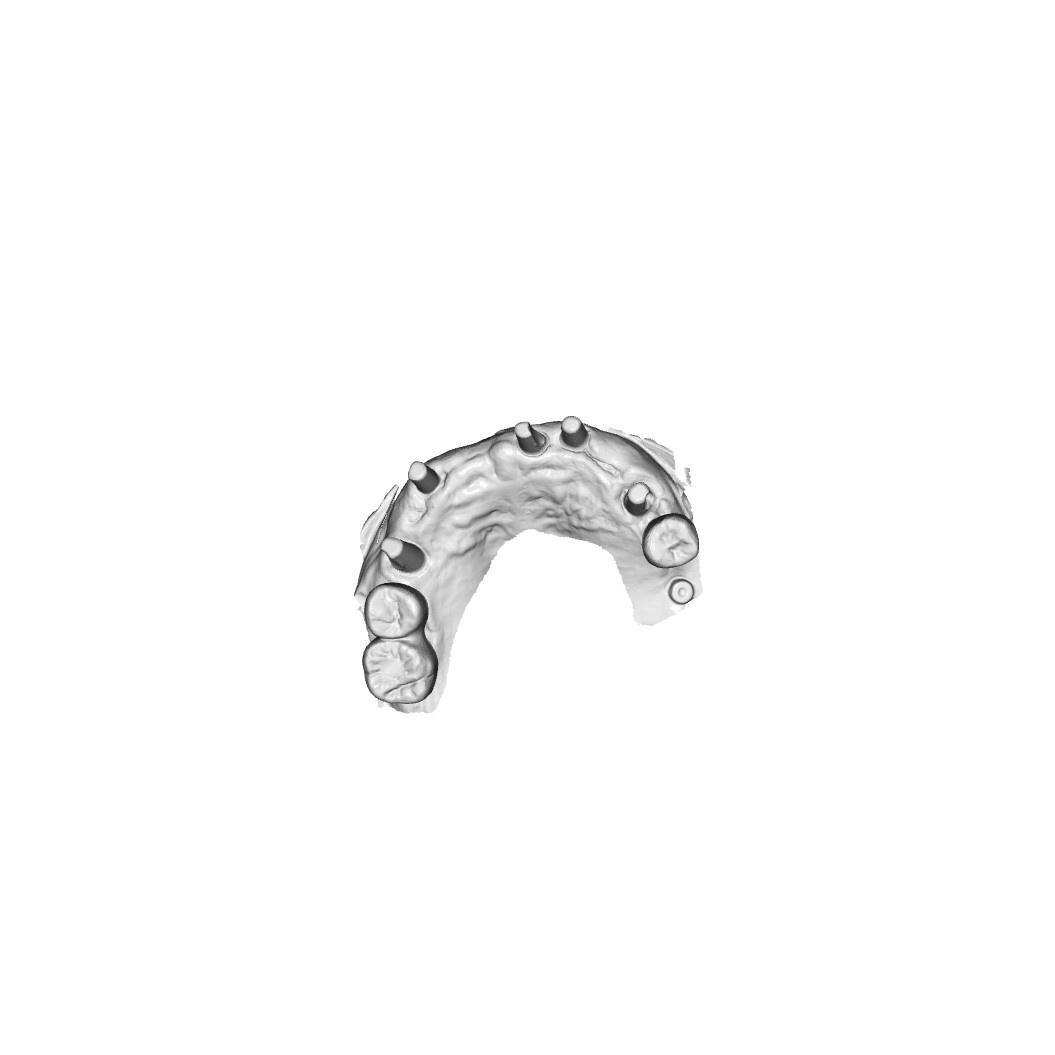abutment: (375, 535, 425, 574), (405, 456, 443, 496), (512, 415, 548, 456), (621, 481, 658, 517), (556, 414, 591, 449)
implant: (663, 578, 697, 608)
molar: (361, 635, 442, 707)
premolar: (364, 583, 429, 642), (639, 510, 698, 568)
